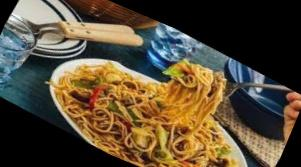pancit bihon: (59, 61, 239, 166)
